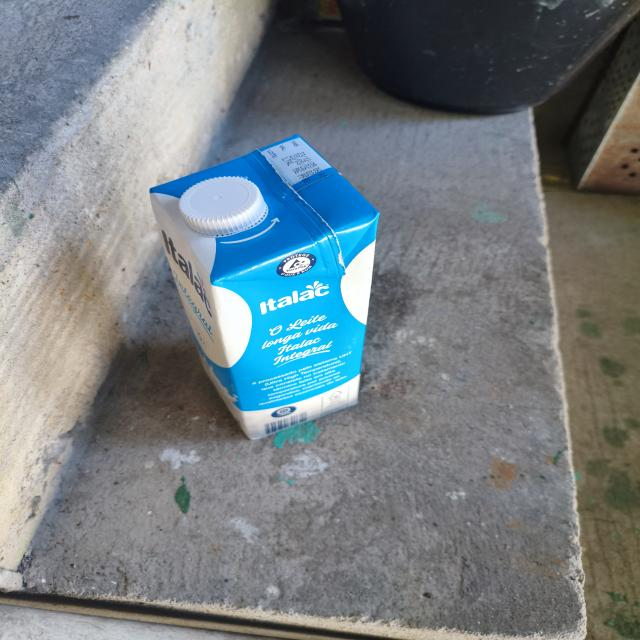Caixa de Leite: (138, 128, 396, 445)
